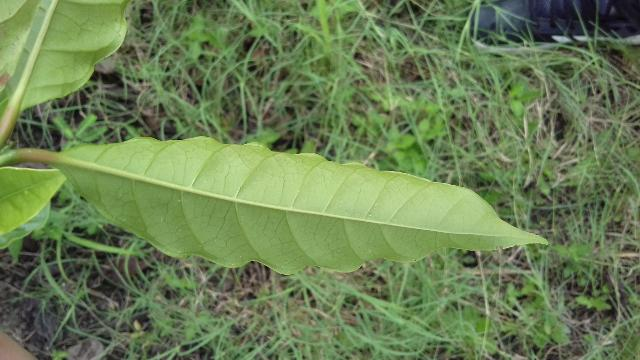healthy: (52, 132, 558, 282)
